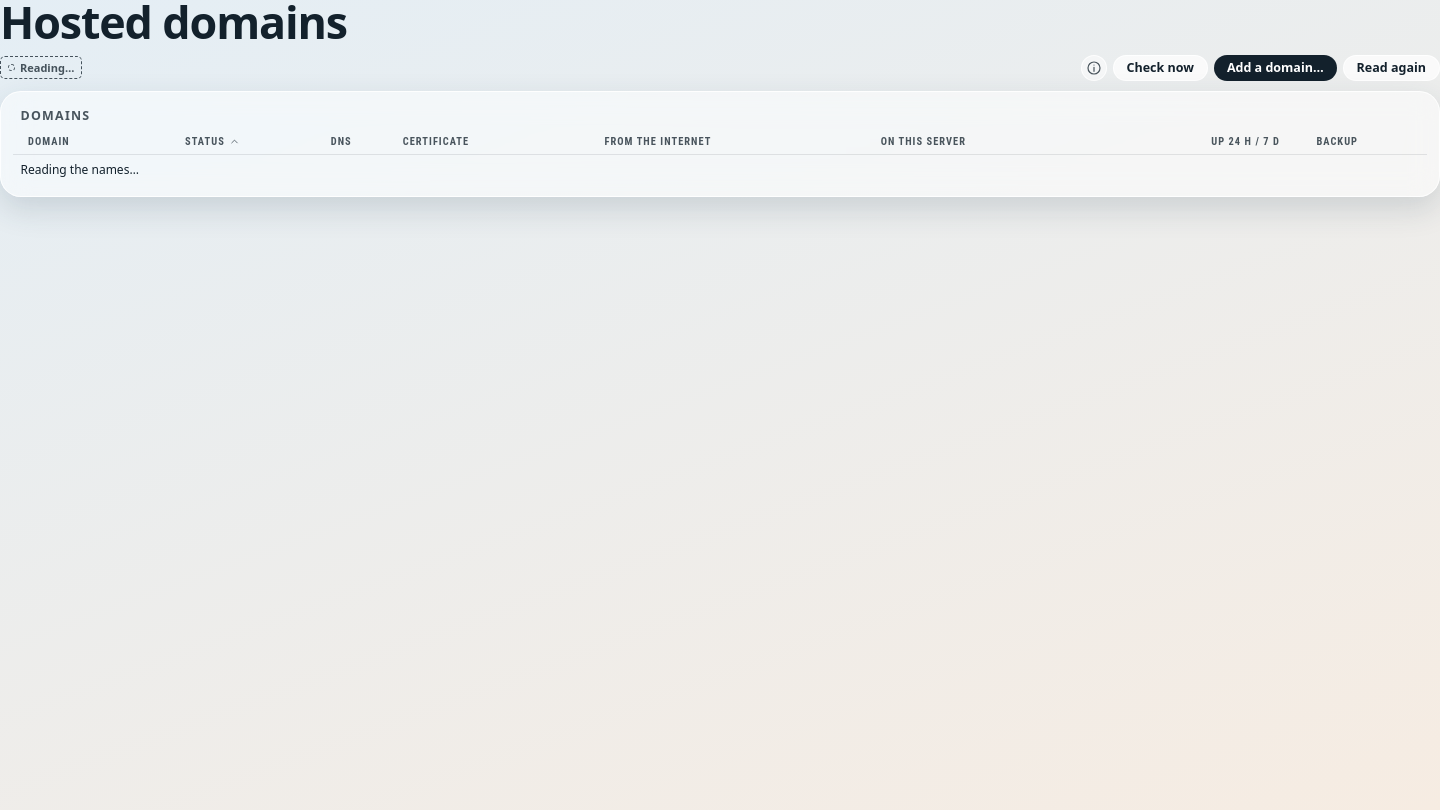
Test: Hosted domains page › checks again on request, and stops watching a name added by hand
The width and height of the screenshot is (1440, 810).
Click the button "Check now". click: (1160, 68)
box: [1112,55,1208,81]
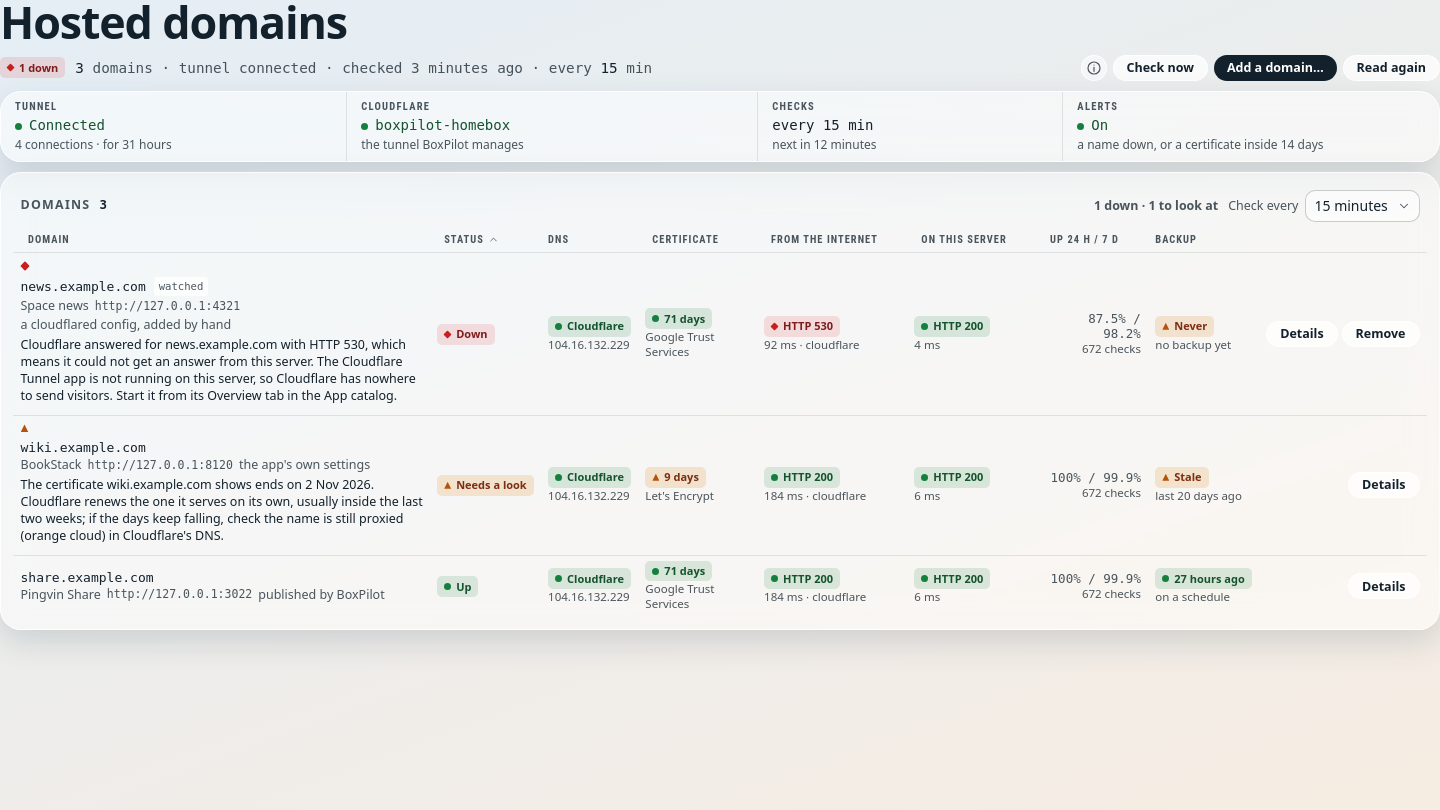
Click the button with aria-label "Stop watching news.example.com". click: (1381, 334)
box: [1342,321,1420,347]
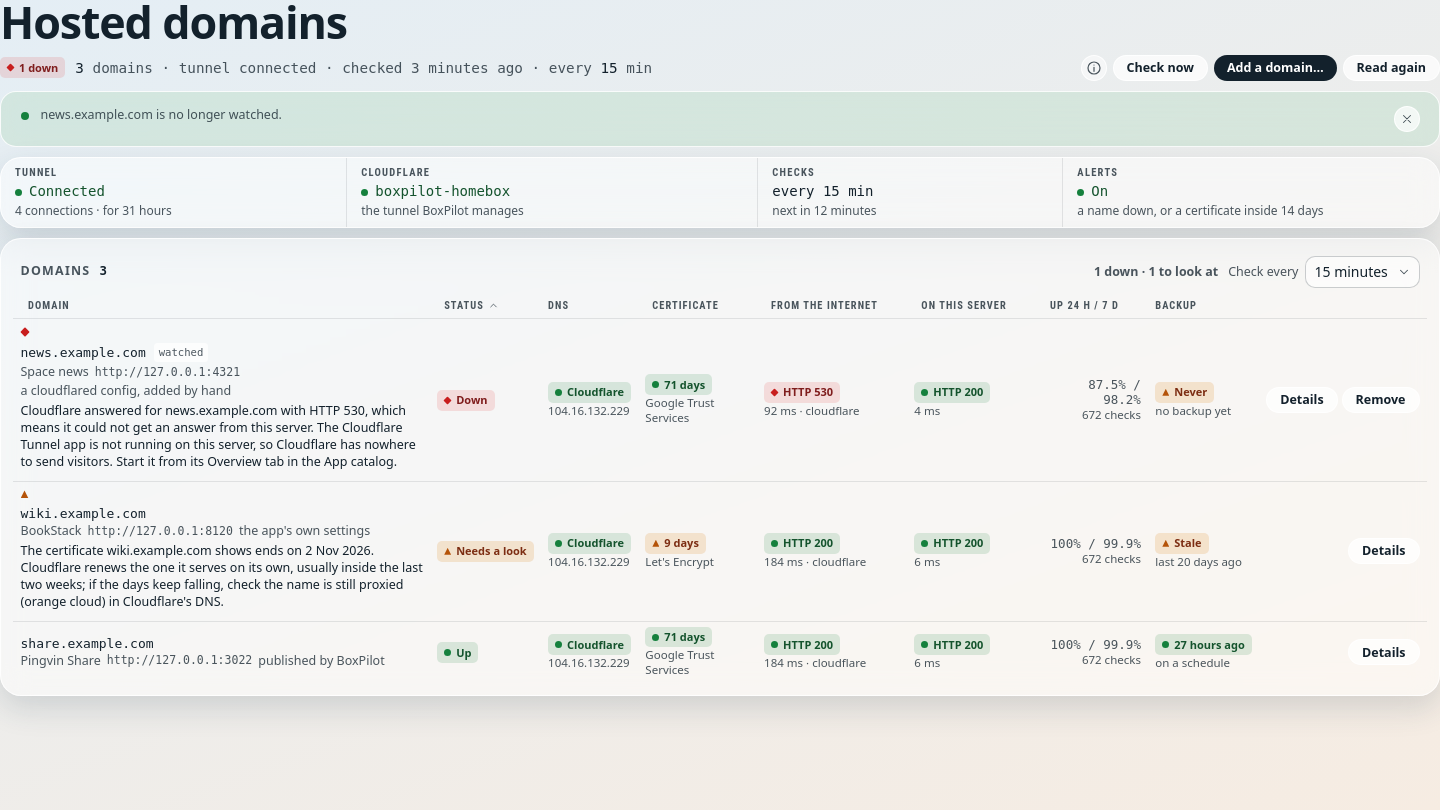
Expected: the text "news.example.com is no longer watched." is shown, [40,106,282,123]
